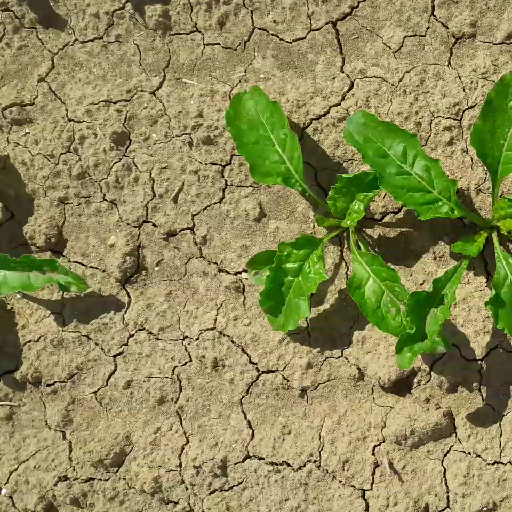sugarbeet: (337, 65, 512, 373), (216, 85, 425, 342)
